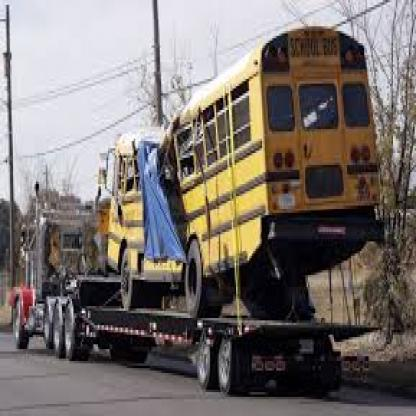accident: (88, 18, 369, 339)
